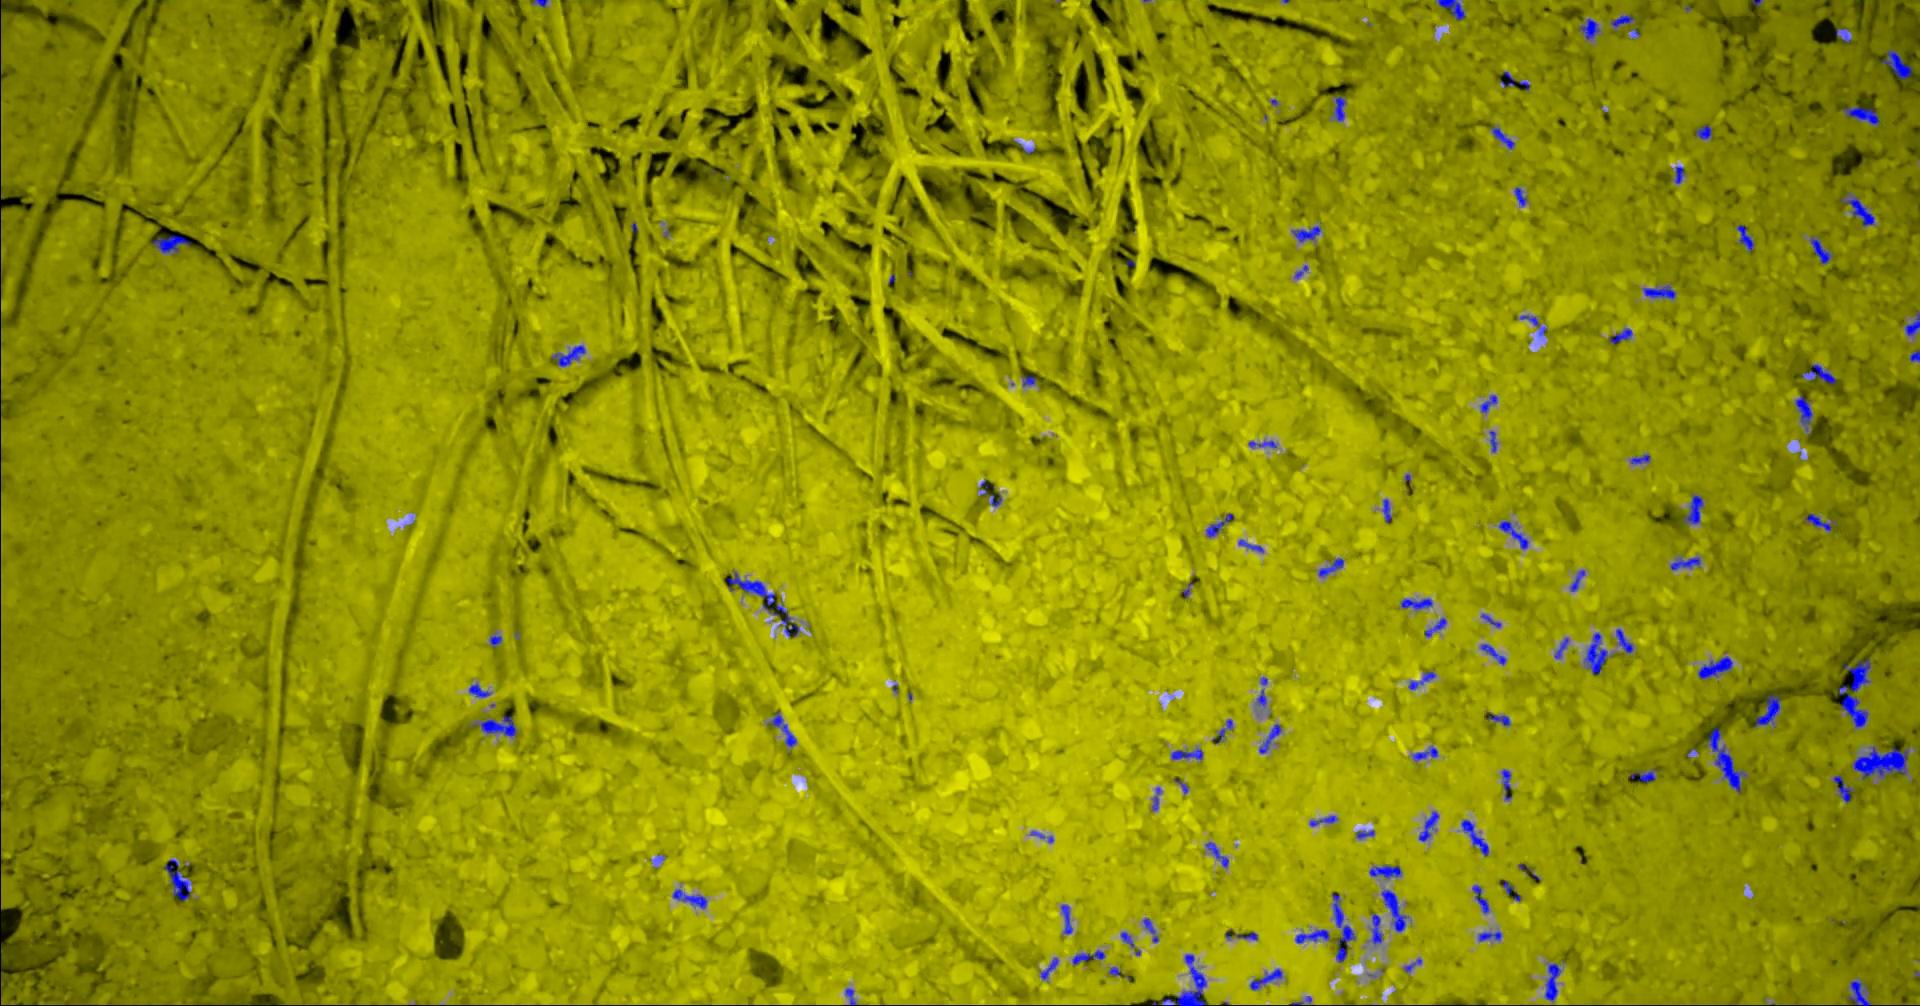ant: (726, 572, 799, 636), (1150, 953, 1206, 1005), (1707, 727, 1746, 793), (1837, 658, 1870, 727), (1851, 746, 1909, 779), (1331, 893, 1355, 962), (164, 859, 190, 901), (1840, 196, 1874, 226), (1583, 633, 1608, 674), (1382, 889, 1406, 931), (1460, 819, 1488, 855), (1881, 50, 1912, 80), (770, 711, 796, 746), (1752, 694, 1779, 727), (472, 715, 516, 735), (1498, 520, 1528, 549), (1697, 655, 1732, 678), (151, 234, 190, 253), (672, 888, 707, 908), (1250, 968, 1283, 989), (1843, 105, 1879, 124), (551, 345, 585, 366), (1801, 363, 1835, 384), (1258, 723, 1281, 753), (1205, 513, 1233, 537), (1810, 236, 1832, 264), (1794, 395, 1812, 431), (1205, 841, 1228, 868), (1683, 494, 1703, 523), (1498, 71, 1529, 90), (1418, 810, 1437, 841), (1436, 0, 1464, 20), (1544, 963, 1559, 1000), (1848, 981, 1870, 1005), (1481, 643, 1506, 664), (1832, 775, 1853, 801), (1491, 126, 1514, 149), (1291, 225, 1321, 243), (1470, 884, 1488, 913), (1070, 949, 1103, 964), (1736, 224, 1754, 251), (1407, 671, 1435, 688), (1211, 719, 1232, 743), (1295, 929, 1330, 942), (1317, 558, 1343, 575), (1642, 285, 1675, 298), (1615, 627, 1633, 653), (1369, 864, 1401, 878), (1804, 513, 1831, 530), (1578, 18, 1599, 39), (1423, 617, 1446, 636), (1501, 879, 1520, 901), (1040, 956, 1058, 979), (1608, 326, 1632, 343), (1670, 558, 1700, 570), (1370, 912, 1383, 942), (1170, 748, 1203, 760), (1237, 539, 1263, 553), (1411, 746, 1437, 760), (1903, 311, 1919, 335), (1143, 918, 1158, 942), (1630, 768, 1655, 782), (1399, 598, 1432, 608), (1060, 904, 1072, 934), (1484, 713, 1510, 725), (469, 683, 491, 697), (1479, 394, 1497, 412), (1501, 768, 1511, 799), (1610, 14, 1634, 27), (1332, 95, 1345, 119), (1570, 569, 1583, 591), (1554, 636, 1568, 658), (1512, 185, 1526, 206), (1309, 815, 1337, 826), (1835, 27, 1850, 43), (1150, 788, 1161, 810), (1478, 931, 1501, 941), (1382, 498, 1390, 522), (1695, 124, 1710, 138), (1248, 439, 1276, 447), (1120, 931, 1133, 948), (1630, 453, 1650, 464), (1355, 829, 1374, 840), (844, 987, 855, 1005), (1674, 166, 1684, 183), (1488, 431, 1496, 451), (489, 635, 502, 647), (1021, 375, 1035, 385), (990, 492, 1001, 506), (1909, 349, 1919, 361)
